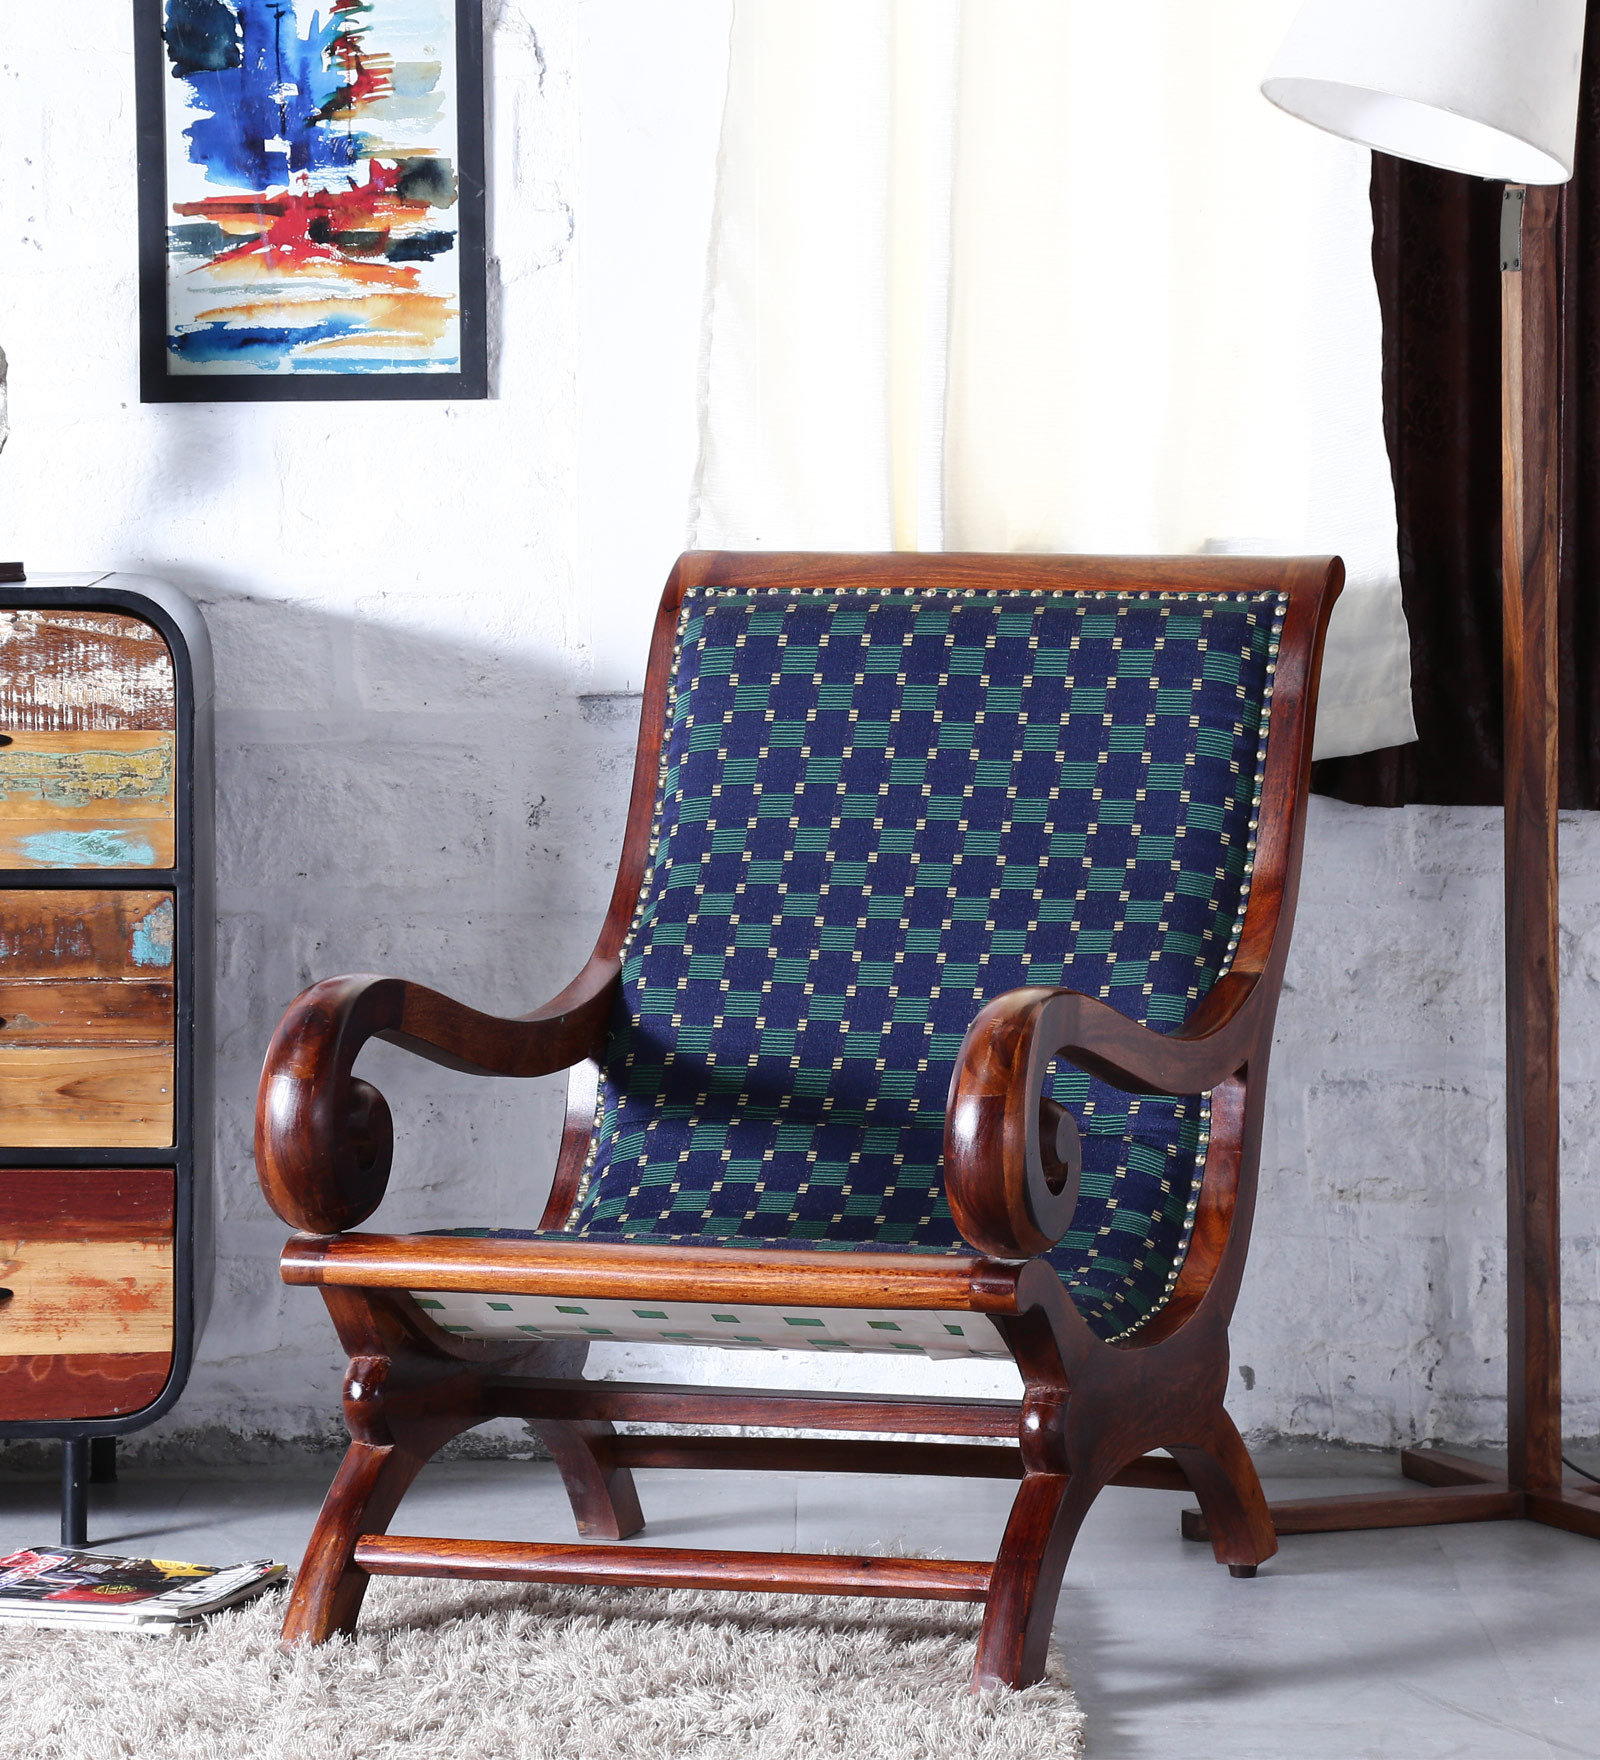Amherst Arm Chair in Honey Oak Finish by Amberville: (233, 491, 1369, 1703)
